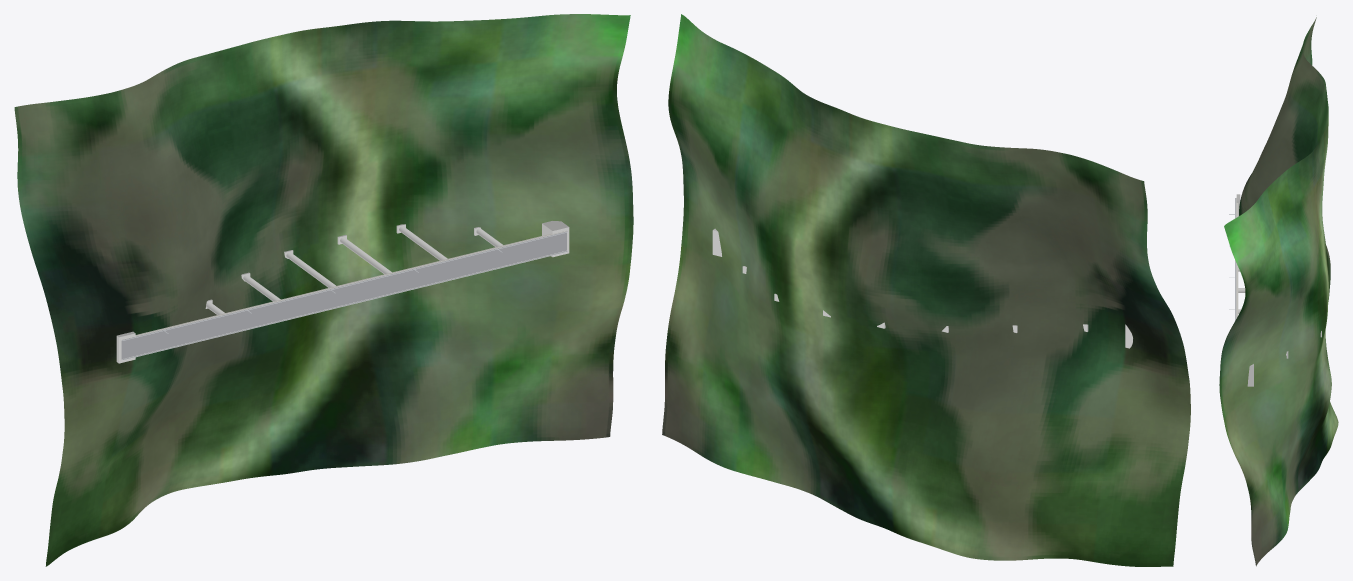
The model's file is qingyuan-bridge.glb.
3 views of the same model, side by side, from view 1: azimuth 30°, elevation 25°; view 2: azimuth 150°, elevation 25°; view 3: azimuth 270°, elevation 25° (orthographic). The views are drawn at different scales.
Parts seen in each view (by area): view 1: RealTerrain; view 2: RealTerrain; view 3: RealTerrain.
Part boxes in pixels (bbox=[...]): RealTerrain: bbox=[14, 14, 633, 566]; RealTerrain: bbox=[662, 14, 1190, 566]; RealTerrain: bbox=[1219, 17, 1338, 566].
Bounding box in the file's own units: 400 × 300 × 94.9.
Materials: 2 (1 with a texture image).
